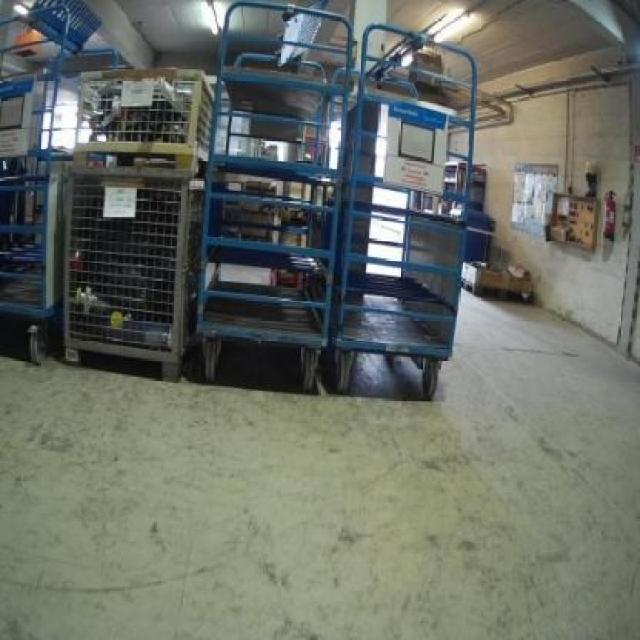floor: (0, 289, 637, 637)
pallets: (63, 68, 209, 377)
